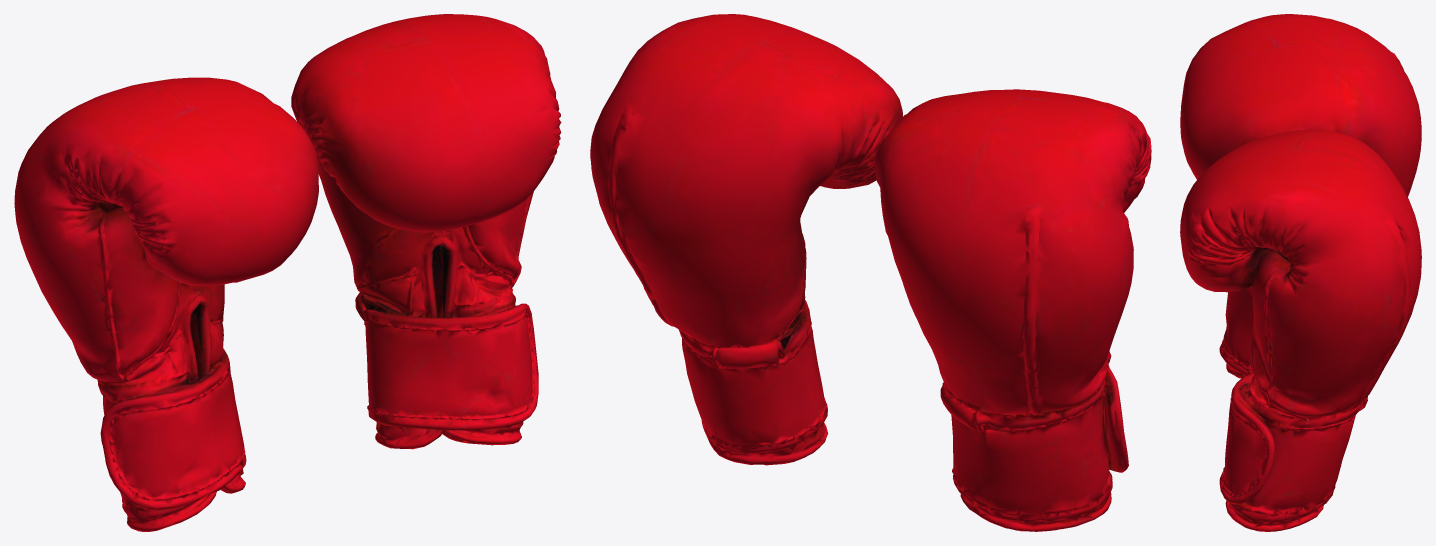
The picture shows the model from 3 angles, left to right: view 1: azimuth 30°, elevation 25°; view 2: azimuth 150°, elevation 25°; view 3: azimuth 270°, elevation 25°; orthographic projection. The views are drawn at different scales.
Bounding box in the file's own units: 1.9 × 1.46 × 0.8925.
1 material, 1 textured.
